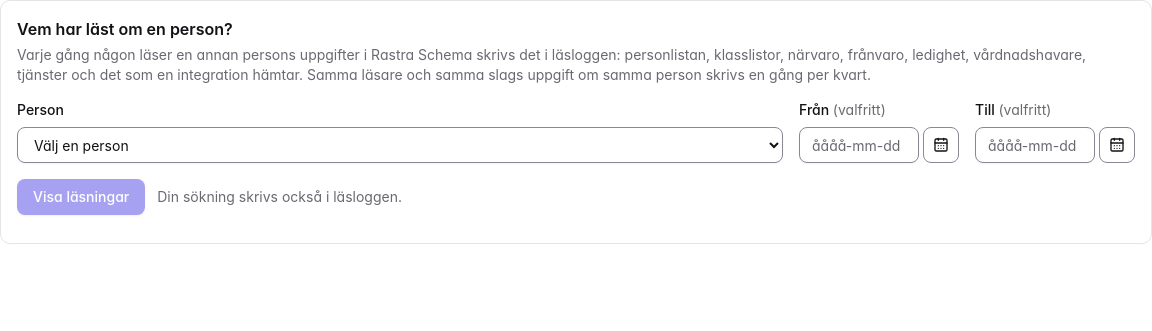
it: Vem har läst om en person? › refuses a period that ends before it begins without asking, and says the gateway's refusal in Swedish
This screenshot has width=1152, height=331.
Step 1. Select "Ek, Ada" in the dropdown labelled "Person" → (400, 145), box x1=17 y1=127 x2=783 y2=163
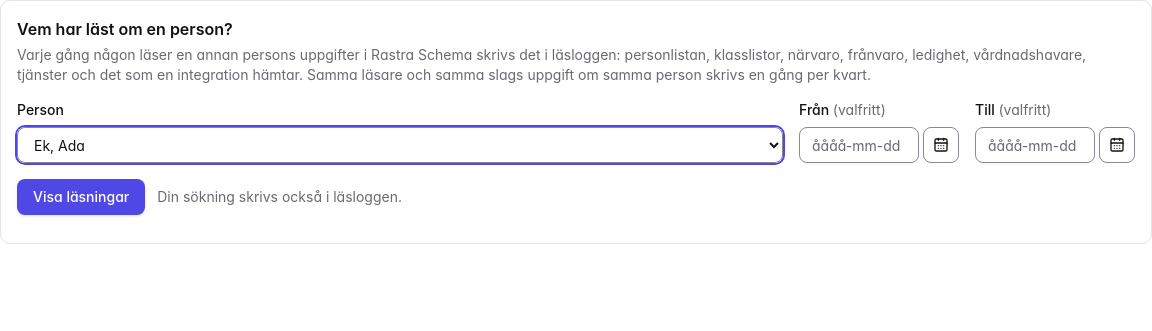
Step 2. Type "2026-10-13" into the field labelled "Från (valfritt)" → (859, 145), box x1=799 y1=127 x2=919 y2=163
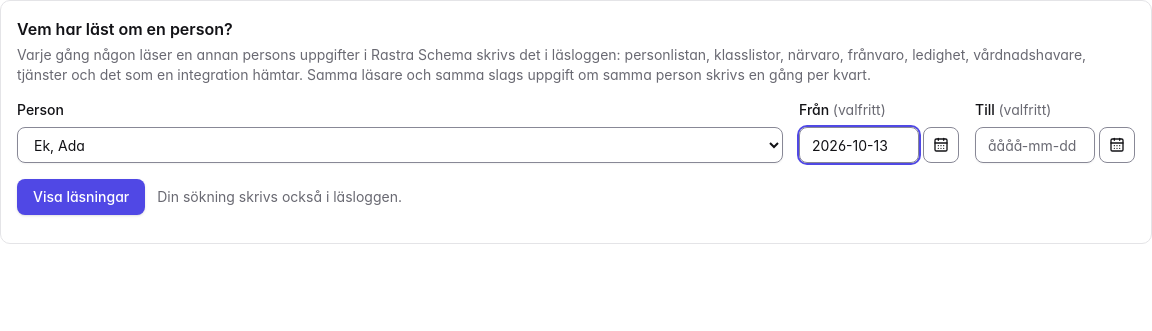
Step 3. Type "2026-10-01" into the field labelled "Till (valfritt)" → (1035, 145), box x1=975 y1=127 x2=1095 y2=163
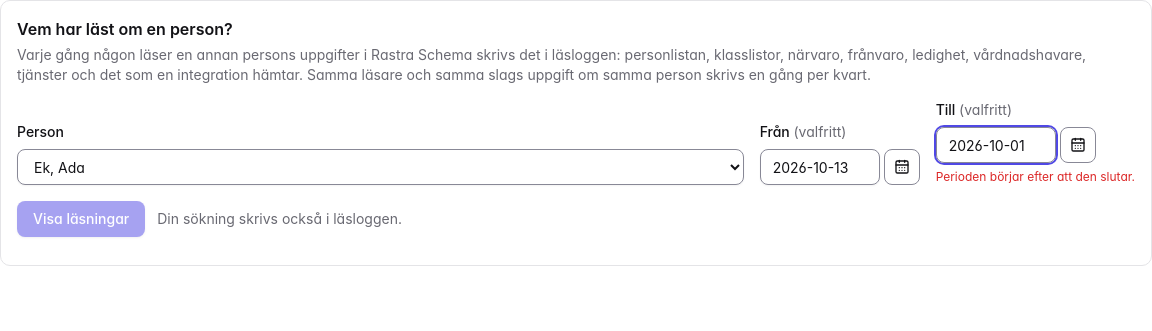
Check: the text "Perioden börjar efter att den slutar." is shown, box x1=936 y1=169 x2=1135 y2=185
Check: the button "Visa läsningar" is disabled, box x1=17 y1=201 x2=145 y2=237
Step 4. Clear the field labelled "Till (valfritt)" → (996, 145), box x1=936 y1=127 x2=1056 y2=163
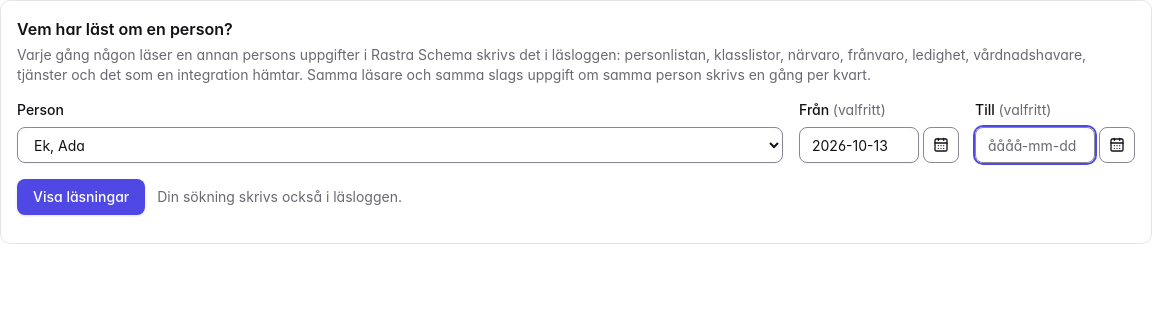
Step 5. Click the button "Visa läsningar" → (81, 197), box x1=17 y1=179 x2=145 y2=215
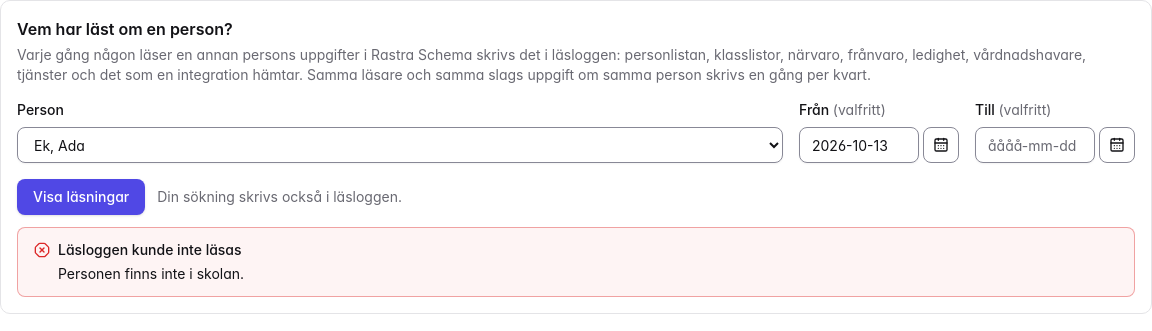
Check: the text "Personen finns inte i skolan." is shown, box x1=58 y1=265 x2=244 y2=282
